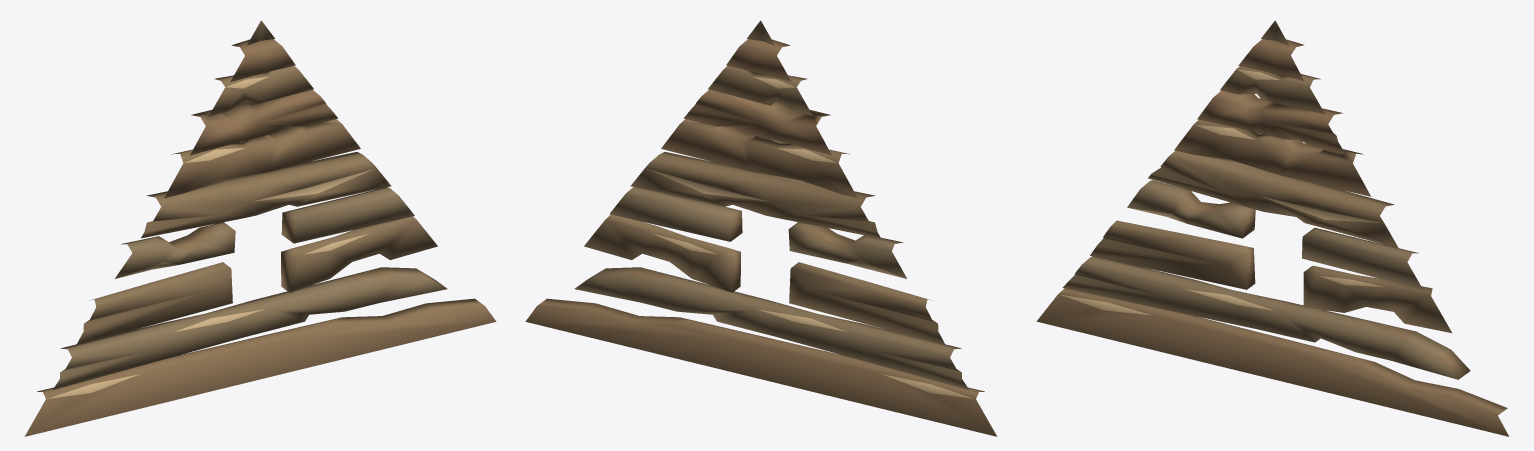
The model's file is rpgpp_av_roof_end_01_6x5_wall_01c.gltf.
3 renders of one model, left to right at view 1: azimuth 30°, elevation 25°; view 2: azimuth 150°, elevation 25°; view 3: azimuth 330°, elevation 25°, orthographic.
Parts seen in each view (by area): view 1: rpgpp_av_roof_end_01_6x5_wall_01c; view 2: rpgpp_av_roof_end_01_6x5_wall_01c; view 3: rpgpp_av_roof_end_01_6x5_wall_01c.
Boxes of the visible parts, left/top/right/bottom form: rpgpp_av_roof_end_01_6x5_wall_01c: left=24, top=20, right=496, bottom=436; rpgpp_av_roof_end_01_6x5_wall_01c: left=525, top=20, right=997, bottom=436; rpgpp_av_roof_end_01_6x5_wall_01c: left=1036, top=20, right=1509, bottom=436.
Size of the model in its own units: 0.0669 by 0.0485 by 0.00374.
Materials: 1 (1 with a texture image).
